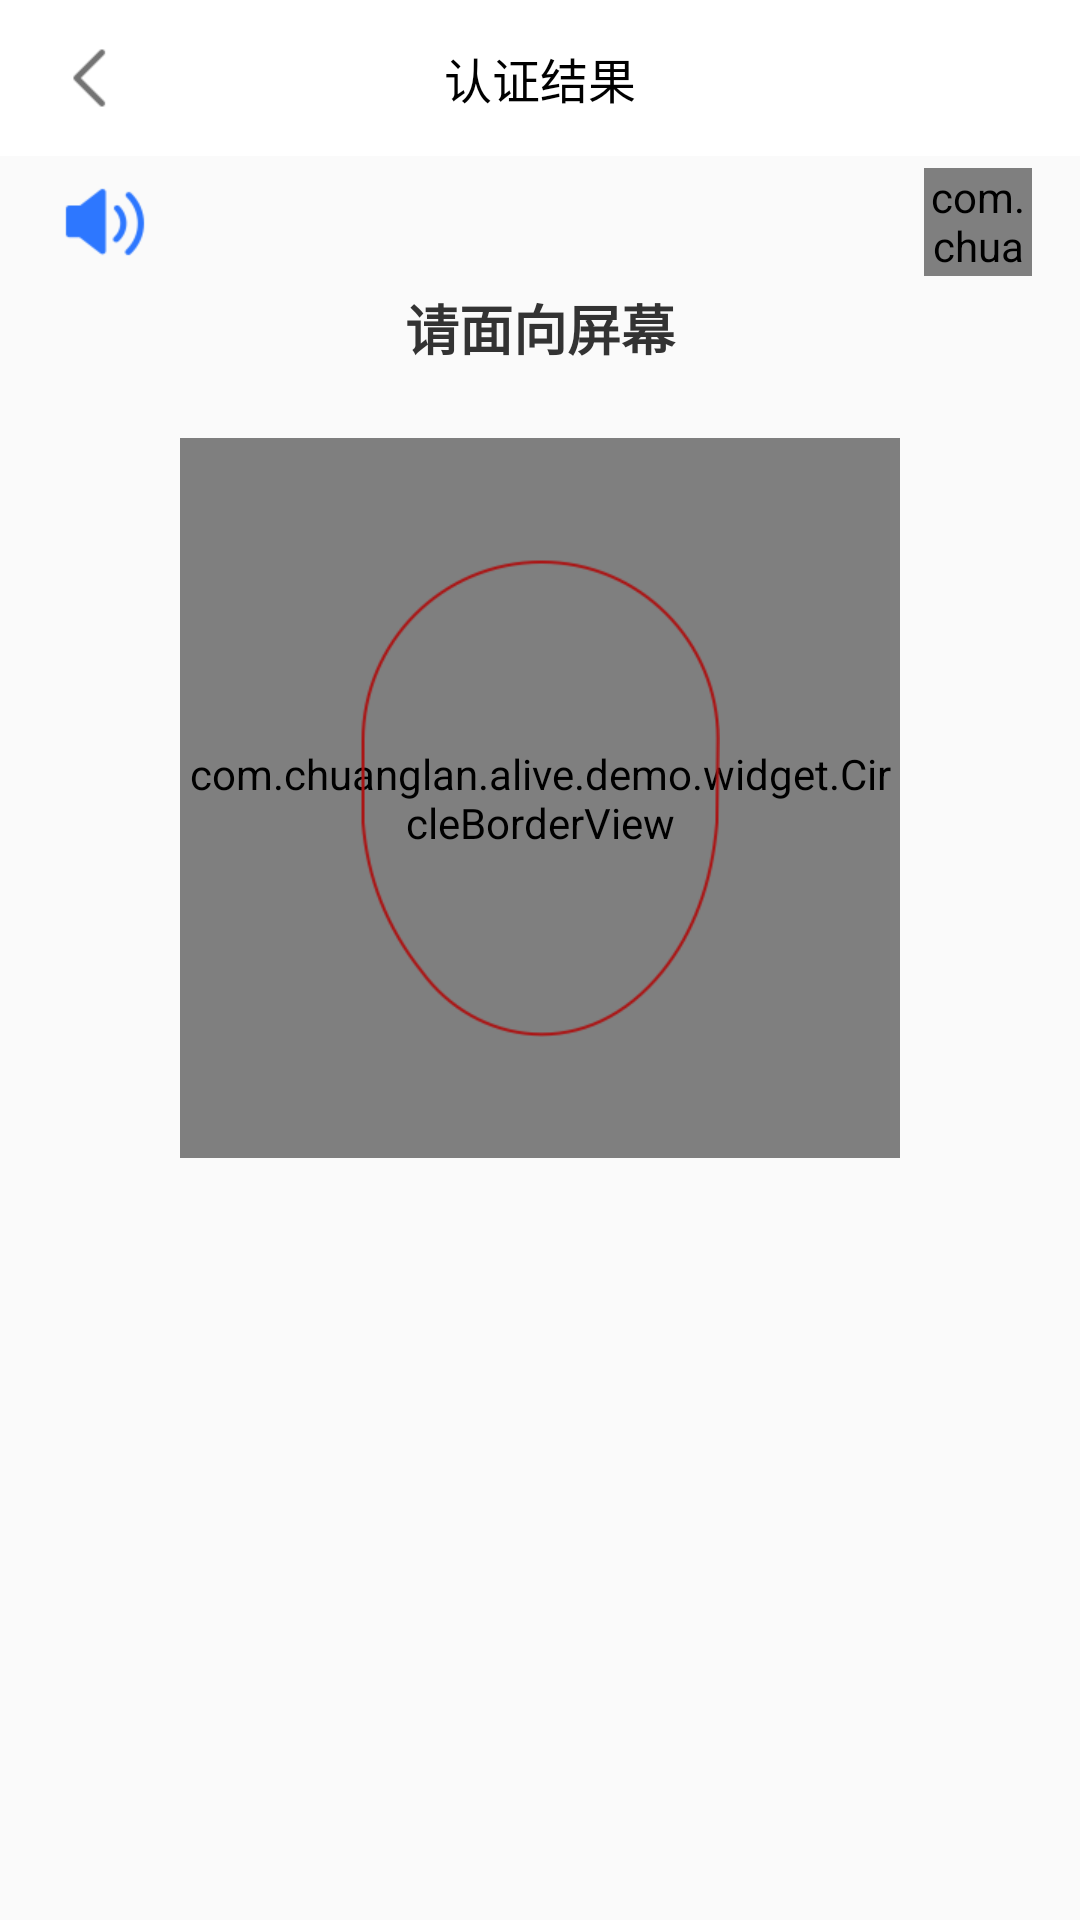

Named icons in this screenshot (1080x1920) and their centers, (x,y):
back: (89,78)
